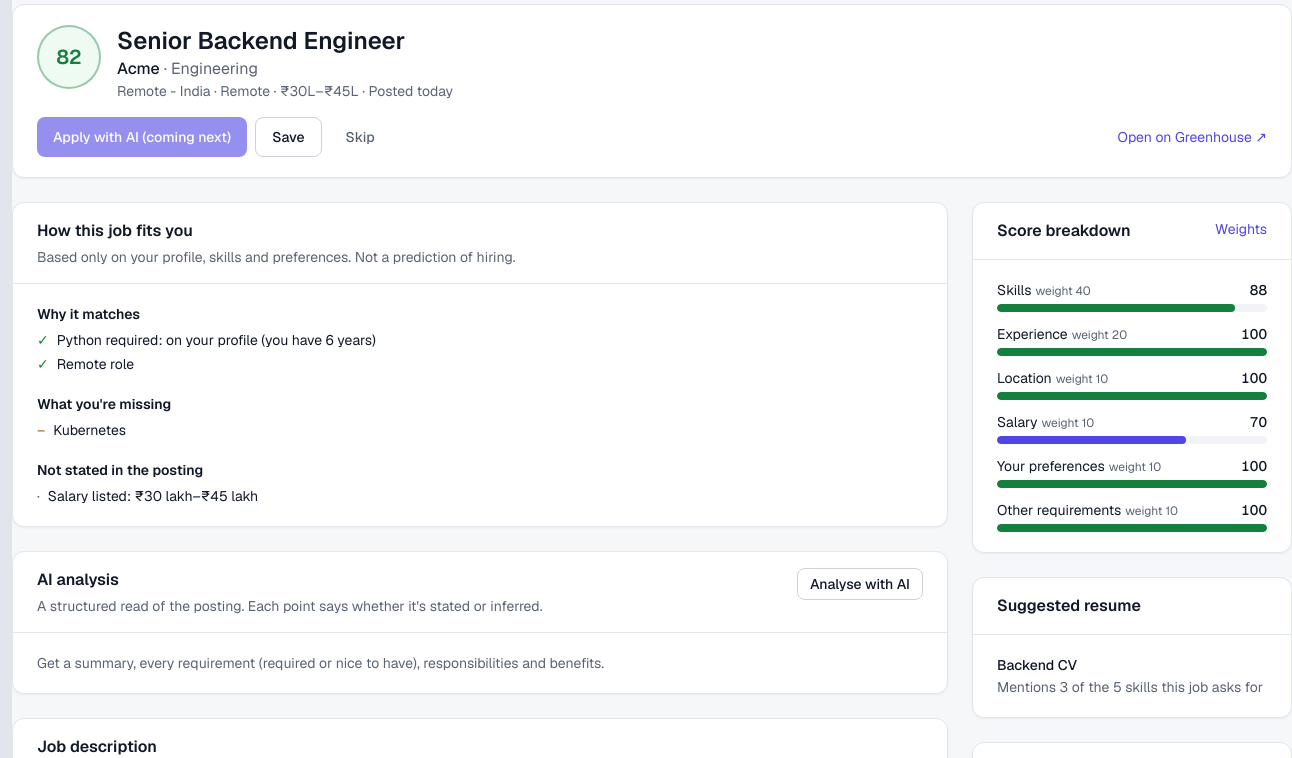
Scenario: JobDetailView › runs the AI analysis and labels stated vs inferred points
Step 1. Click the button "Analyse with AI" → click(860, 584), box [797,568,923,600]
(page scrolled)
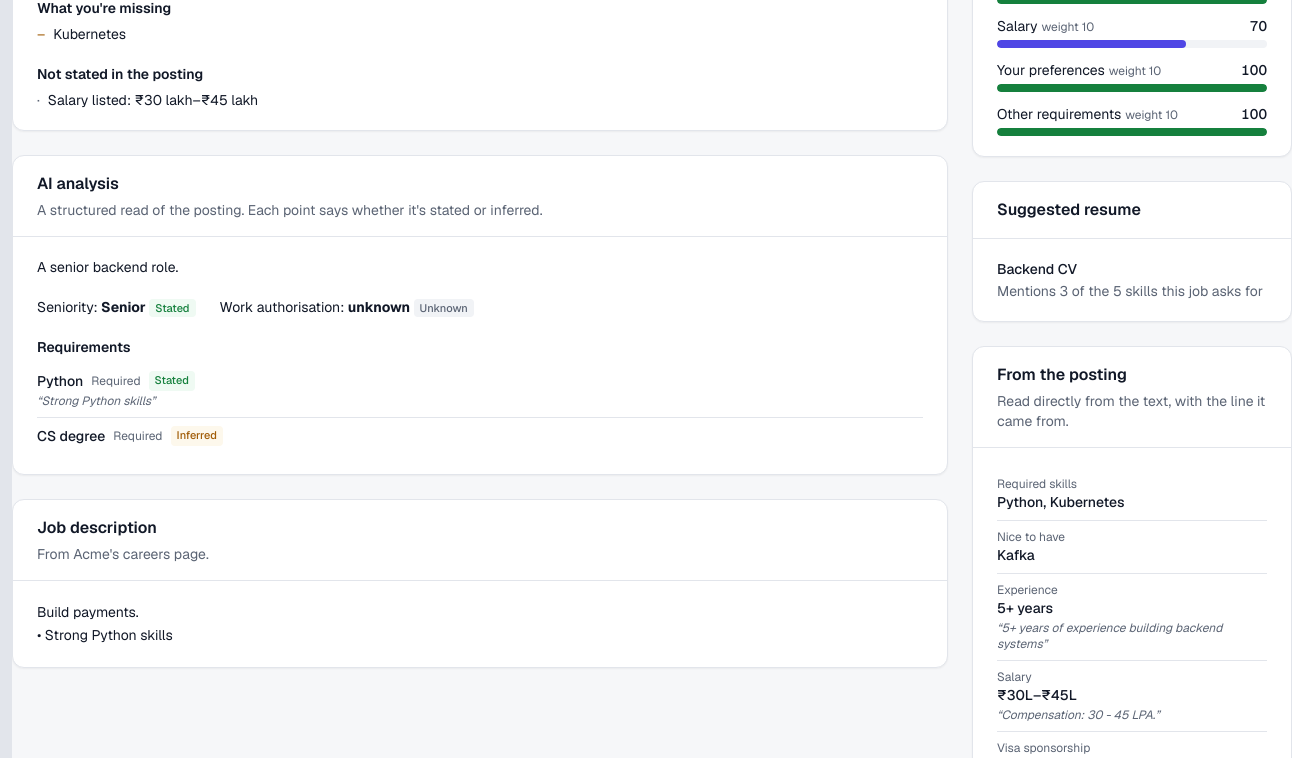
Expected: the text "A senior backend role." is shown, [37,258,178,276]
Expected: the text "Inferred" is shown, [170,426,223,446]
Expected: the 2nd text "Stated" is shown, [149,371,195,391]
